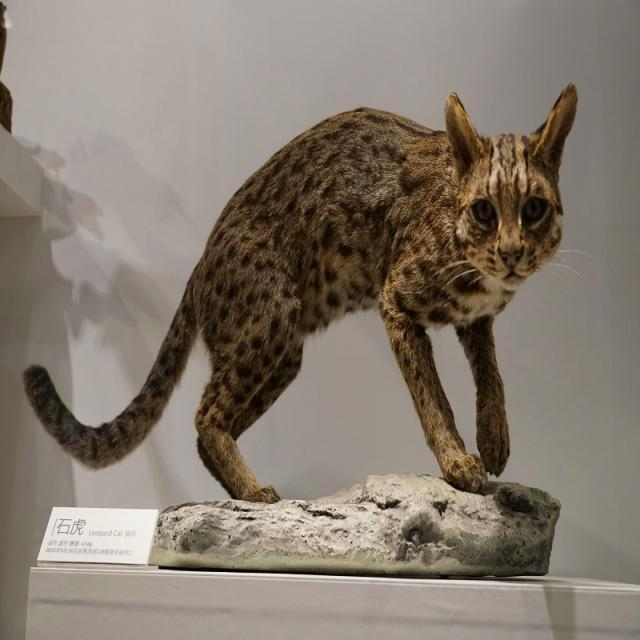leopard: (81, 55, 569, 516)
